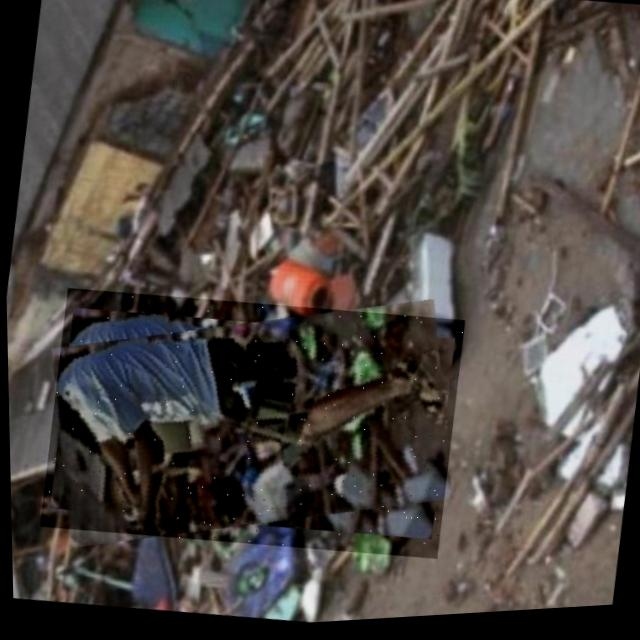Person in Rubble: (34, 270, 468, 582)
